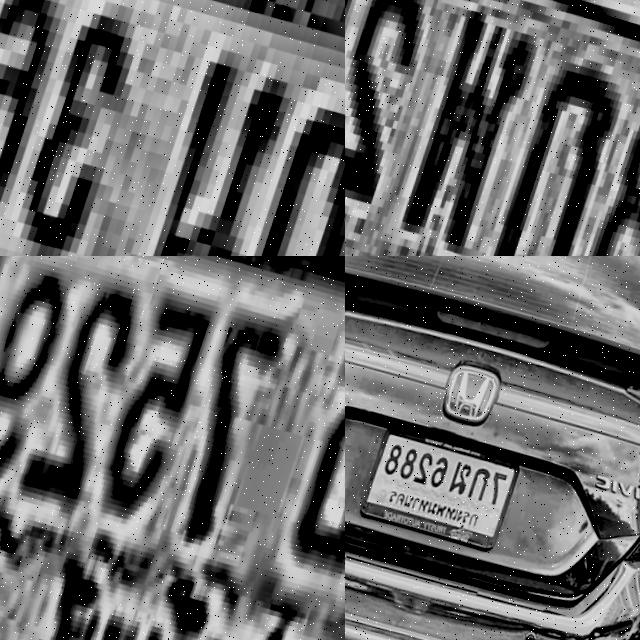license-plate: (0, 256, 345, 640), (0, 0, 345, 256), (345, 0, 640, 256), (359, 416, 533, 552)
